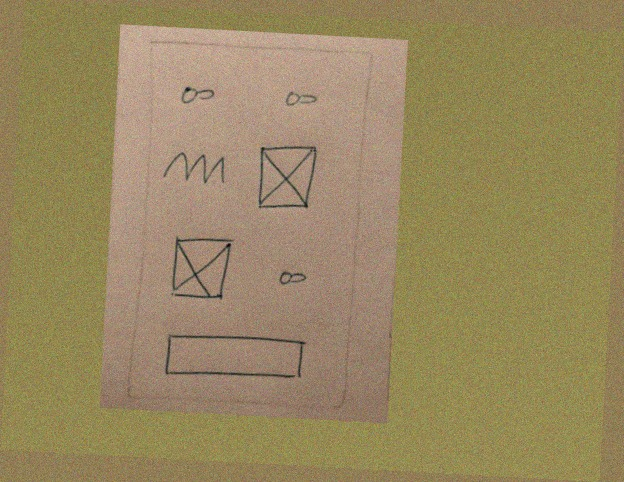image: (163, 226, 245, 307), (249, 138, 324, 218)
switch: (266, 262, 317, 299), (173, 77, 220, 116), (278, 81, 323, 117)
text: (160, 146, 227, 189)
text_input: (154, 325, 314, 391)
